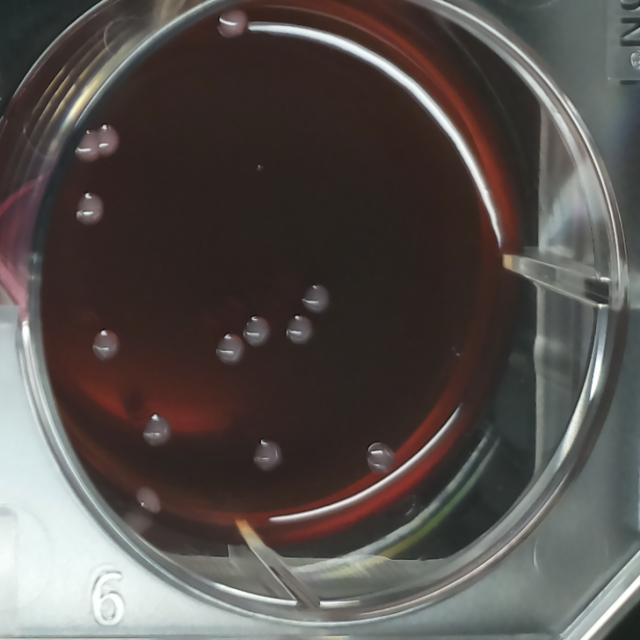Pseudoalteromonas: (362, 438, 400, 482), (248, 435, 287, 475), (138, 410, 174, 451), (212, 329, 248, 369), (215, 4, 252, 42), (240, 310, 275, 350), (71, 190, 106, 230), (89, 326, 122, 365), (300, 280, 333, 317), (281, 313, 314, 349), (72, 126, 100, 164), (95, 122, 120, 158)
